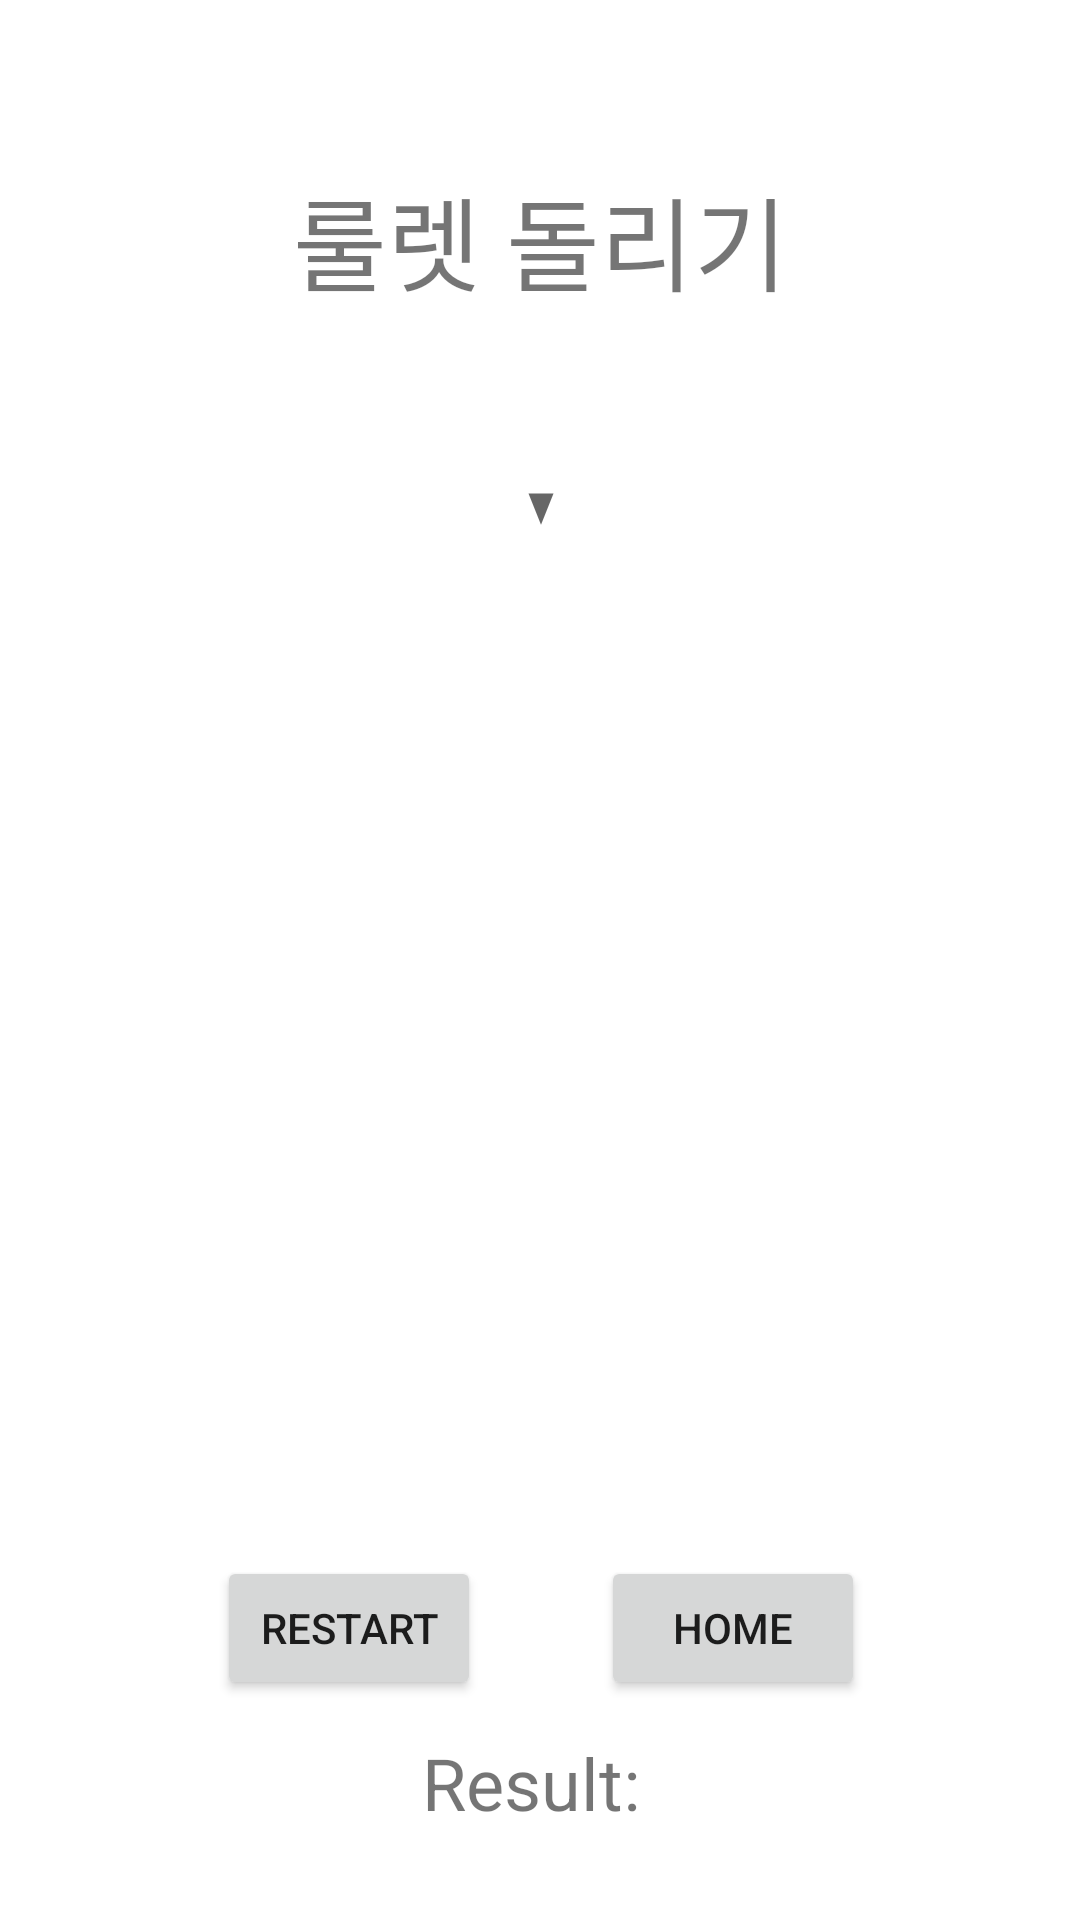

Icon click points for this 1080x1920 phone screenshot, format point (x, y):
arrow drop down: point (541, 508)
